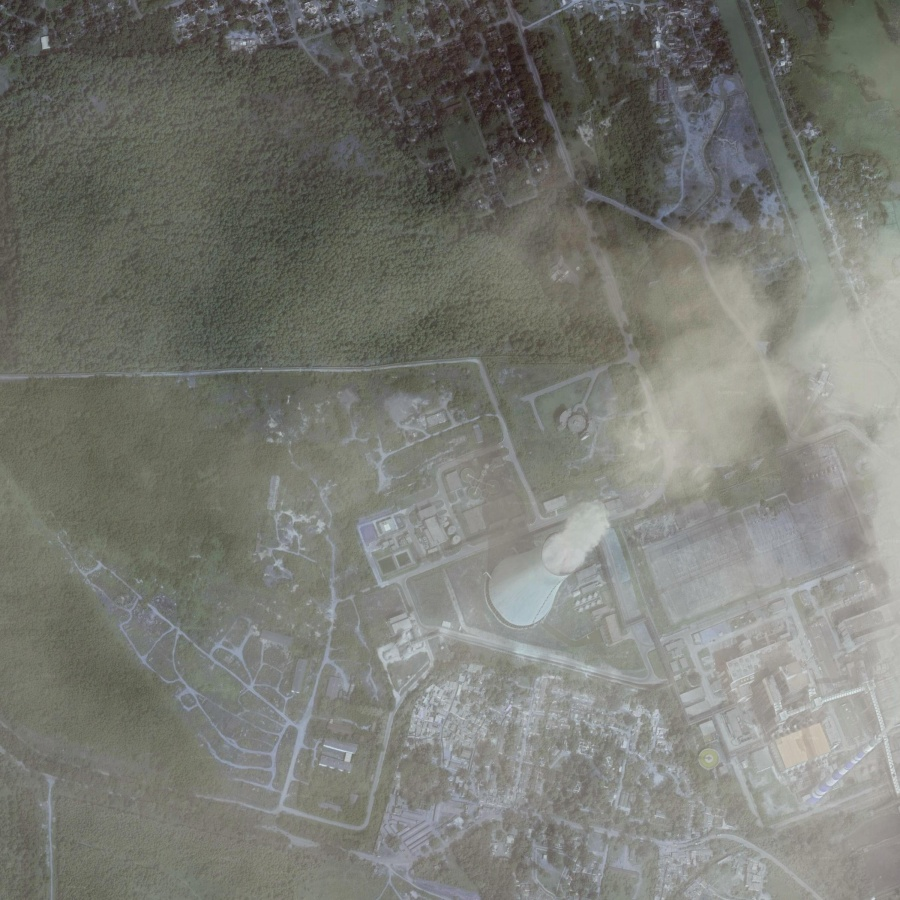PowerPlant: (478, 461, 633, 672)
